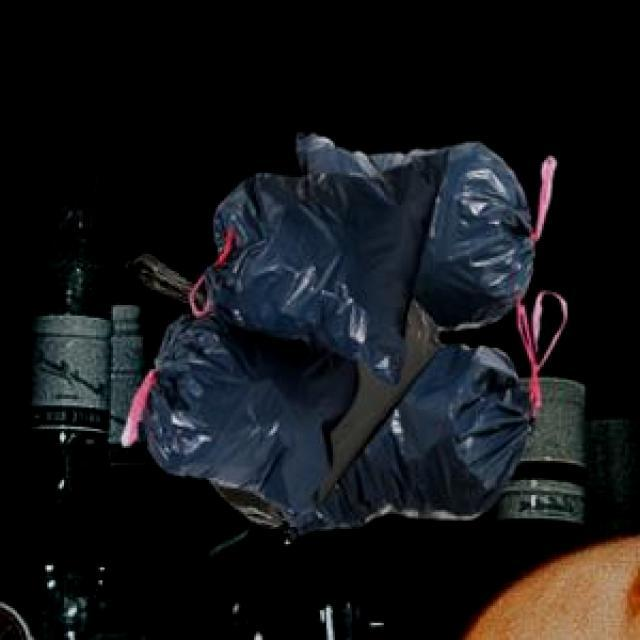Trashbag: (215, 144, 449, 374), (332, 344, 538, 522), (154, 338, 352, 517)
